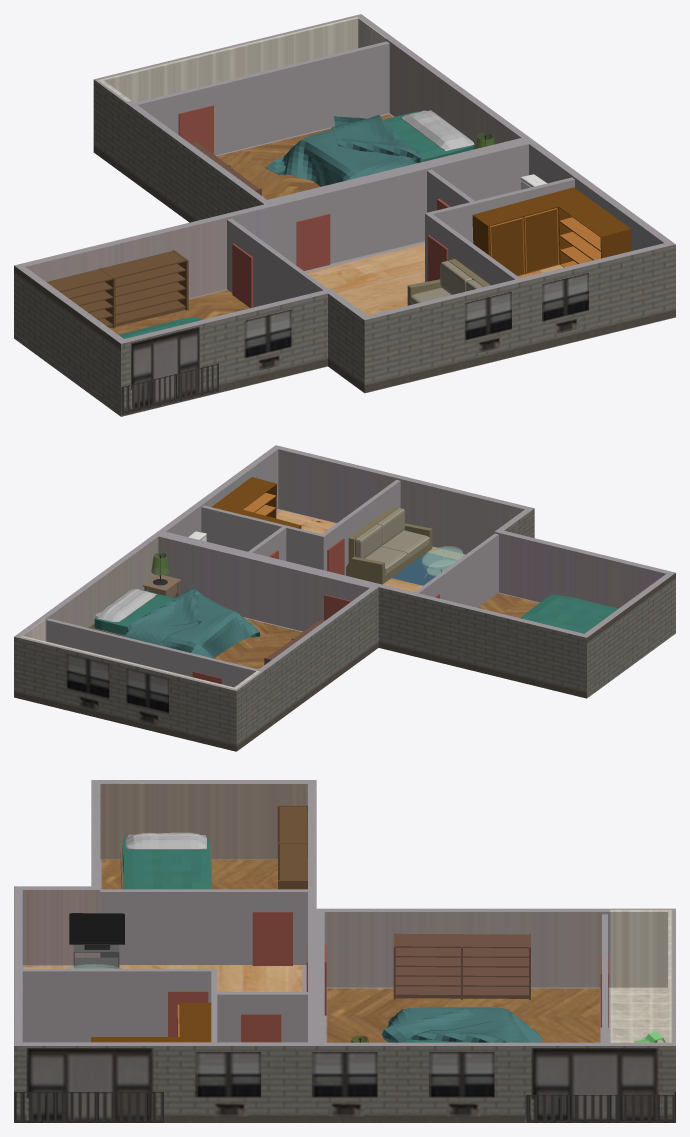
Rendered from room2.gltf.
3 renders of one model, top to bottom at view 1: azimuth 30°, elevation 25°; view 2: azimuth 150°, elevation 25°; view 3: azimuth 270°, elevation 25°, orthographic. The views are drawn at different scales.
Parts seen in each view (by area): view 1: 立方体.001, 立方体.004, Wardrobe_Color Grid_0, pCube52, pCube116, 立方体.007, 立方体.002, 立方体.003, pCube109, 立方体.009, 立方体.012, 立方体.006 (+2 smaller); view 2: 立方体.001, pCube52, 立方体.004, pCube109, 立方体.003, 立方体.007, mobili_esportati:pCube52, 立方体.002, Wardrobe_Color Grid_0, pCube118, pCylinder44, 立方体.005 (+3 smaller); view 3: 立方体.001, 立方体.007, 立方体.002, pCube116_mobili_esportati:libreria_0.001, mobili_esportati:pCube52, pCube52, 立方体.005, pCube190, pCube116, 立方体.006, Wardrobe_Color Grid_0, 立方体.008 (+3 smaller).
Boxes of the visible parts, left/top/right/bottom form: 立方体.001: left=14, top=14, right=675, bottom=416; 立方体.004: left=135, top=41, right=389, bottom=155; Wardrobe_Color Grid_0: left=472, top=187, right=631, bottom=276; pCube52: left=265, top=110, right=474, bottom=186; pCube116: left=46, top=250, right=188, bottom=328; 立方体.007: left=227, top=218, right=328, bottom=307; 立方体.002: left=425, top=212, right=519, bottom=285; 立方体.003: left=430, top=177, right=574, bottom=243; pCube109: left=407, top=259, right=490, bottom=305; 立方体.009: left=296, top=213, right=330, bottom=270; 立方体.012: left=178, top=105, right=213, bottom=153; 立方体.006: left=232, top=243, right=253, bottom=308; 立方体.001: left=14, top=445, right=675, bottom=751; pCube52: left=88, top=587, right=260, bottom=658; 立方体.004: left=46, top=618, right=258, bottom=687; pCube109: left=346, top=506, right=432, bottom=584; 立方体.003: left=201, top=505, right=324, bottom=569; 立方体.007: left=414, top=533, right=498, bottom=607; mobili_esportati:pCube52: left=521, top=594, right=618, bottom=633; 立方体.002: left=319, top=479, right=400, bottom=575; Wardrobe_Color Grid_0: left=211, top=477, right=301, bottom=528; pCube118: left=392, top=553, right=457, bottom=585; pCylinder44: left=421, top=546, right=463, bottom=577; 立方体.005: left=248, top=527, right=286, bottom=560; 立方体.001: left=14, top=780, right=675, bottom=1122; 立方体.007: left=100, top=889, right=307, bottom=964; 立方体.002: left=22, top=969, right=217, bottom=1042; pCube116_mobili_esportati:libreria_0.001: left=393, top=933, right=530, bottom=999; mobili_esportati:pCube52: left=120, top=832, right=212, bottom=889; pCube52: left=381, top=1007, right=543, bottom=1042; 立方体.005: left=212, top=992, right=307, bottom=1042; pCube190: left=69, top=913, right=124, bottom=968; pCube116: left=277, top=805, right=307, bottom=889; 立方体.006: left=252, top=911, right=292, bottom=965; Wardrobe_Color Grid_0: left=91, top=1002, right=211, bottom=1042; 立方体.008: left=241, top=1014, right=281, bottom=1042.
Bounding box in the file's own units: 31.17 × 4.36 × 32.8.
Materials: 35 (3 with a texture image).
